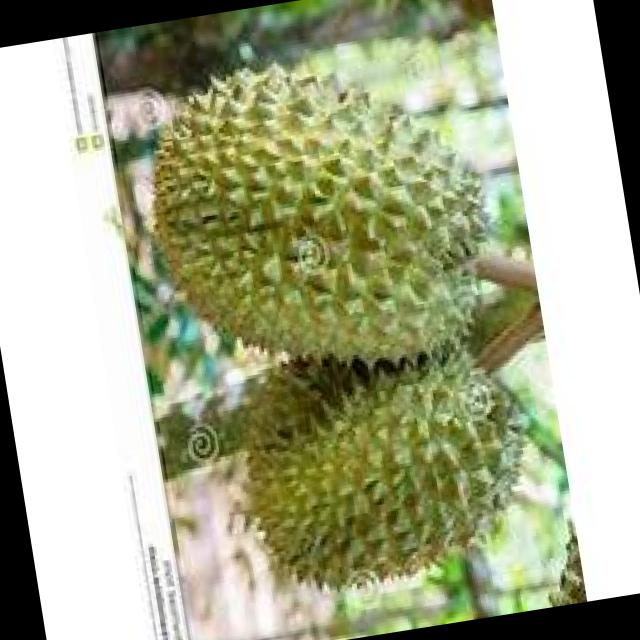fruit: (101, 2, 500, 423), (193, 315, 478, 635)
